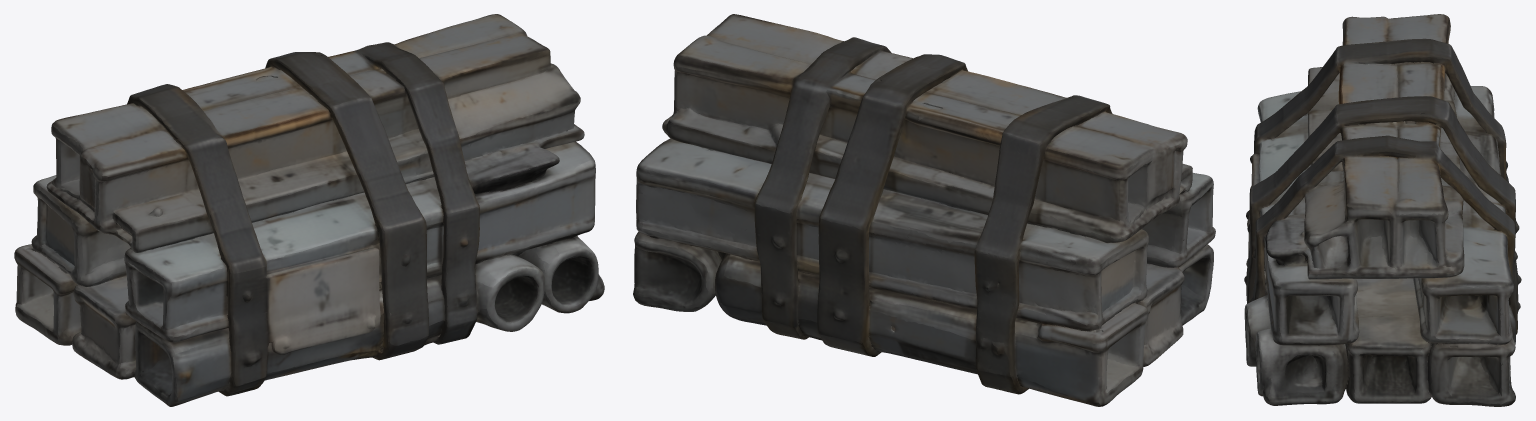
Rendered from parts.glb.
3 renders of one model, left to right at view 1: azimuth 30°, elevation 25°; view 2: azimuth 150°, elevation 25°; view 3: azimuth 270°, elevation 25°, orthographic. The views are drawn at different scales.
Parts seen in each view (by area): view 1: world; view 2: world; view 3: world.
Part boxes in pixels (x1=…): world: x1=14, y1=14, x2=604, y2=406; world: x1=633, y1=14, x2=1215, y2=406; world: x1=1244, y1=14, x2=1521, y2=406.
Bounding box in the file's own units: 1.2 × 0.5895 × 0.6845.
1 material, 1 textured.
